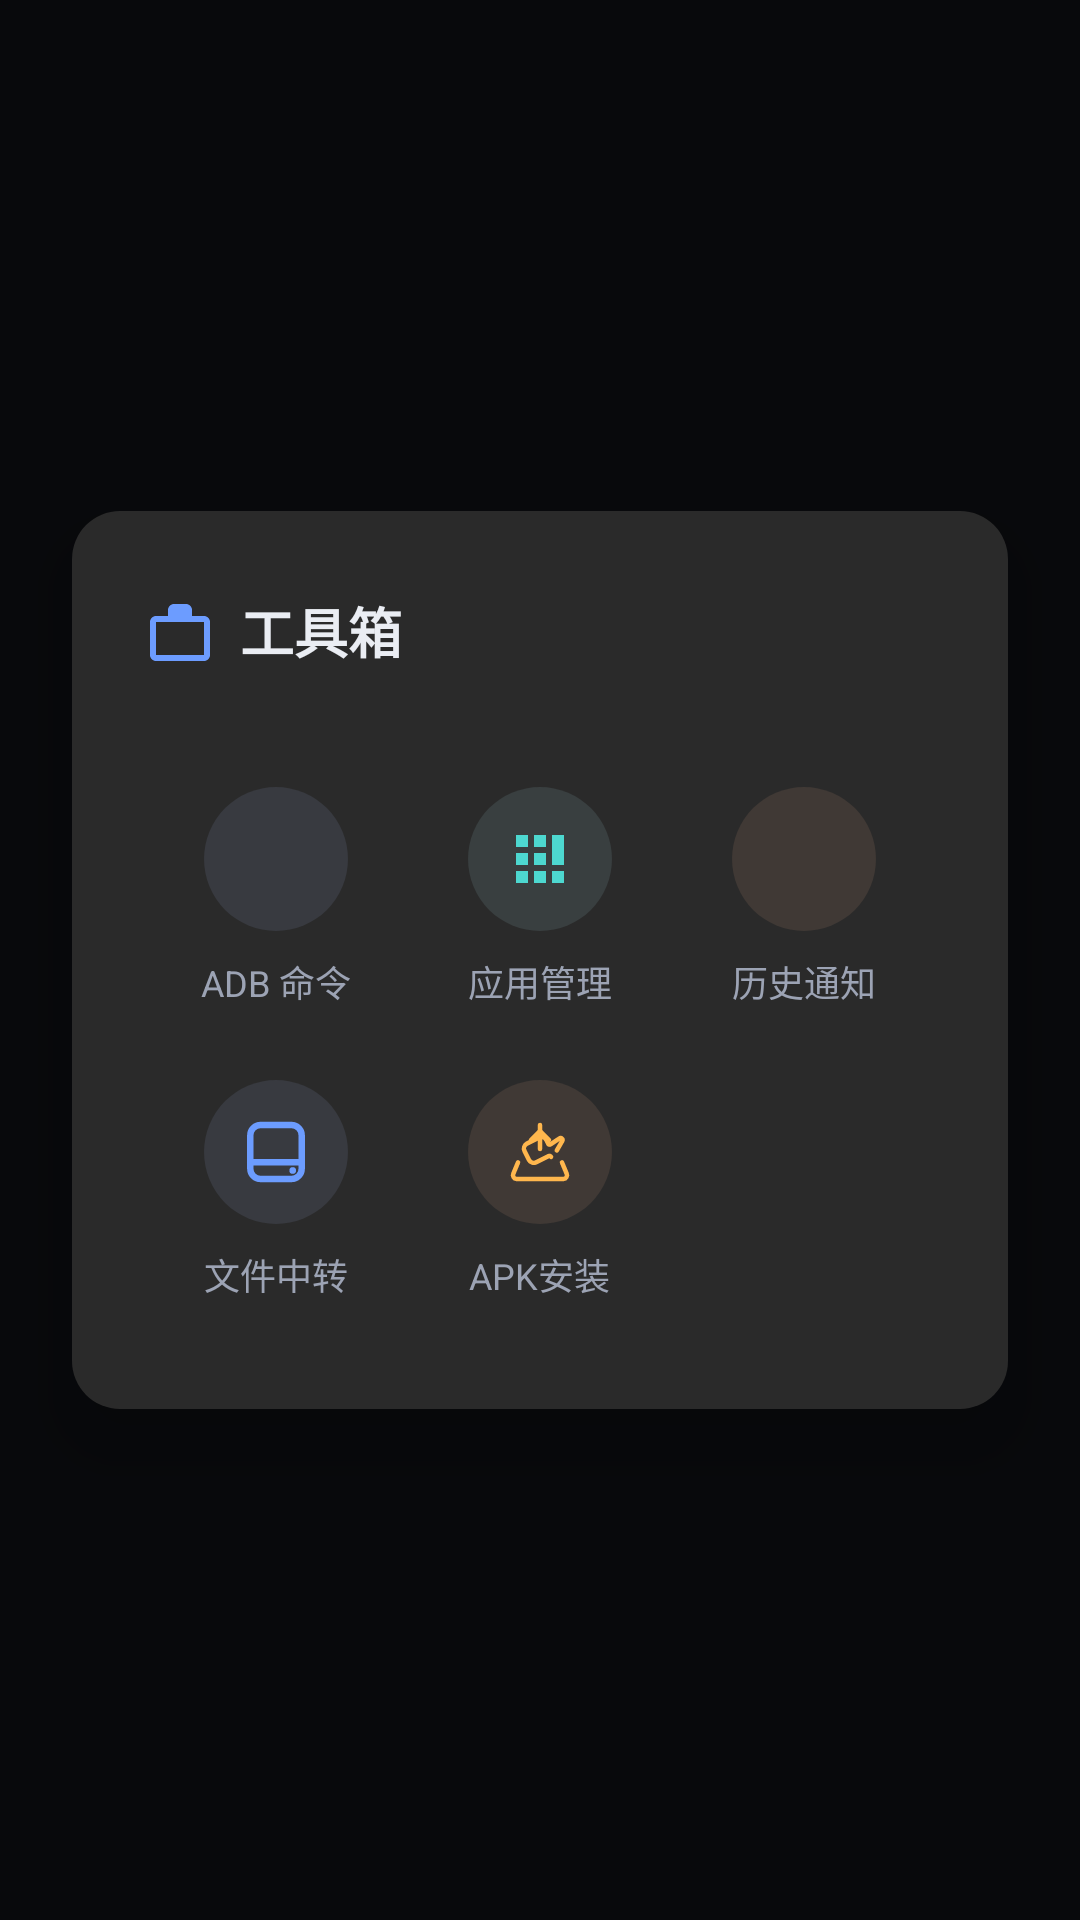

Icons on this 1080 × 1920 Android screen, each with its box as {"left": x1, "top": y1, "right": x2, "bottom": y2}:
apps: {"left": 516, "top": 835, "right": 564, "bottom": 883}
toolbox: {"left": 150, "top": 604, "right": 210, "bottom": 661}
